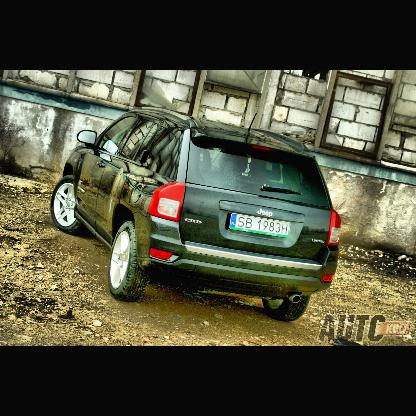Jeep Compass SUV 2012: (51, 109, 342, 324)
